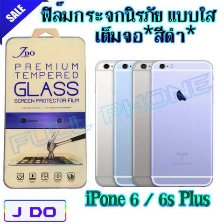book: (0, 30, 90, 191)
phone: (129, 59, 202, 187), (147, 57, 216, 187), (91, 58, 145, 188), (112, 58, 165, 187)
